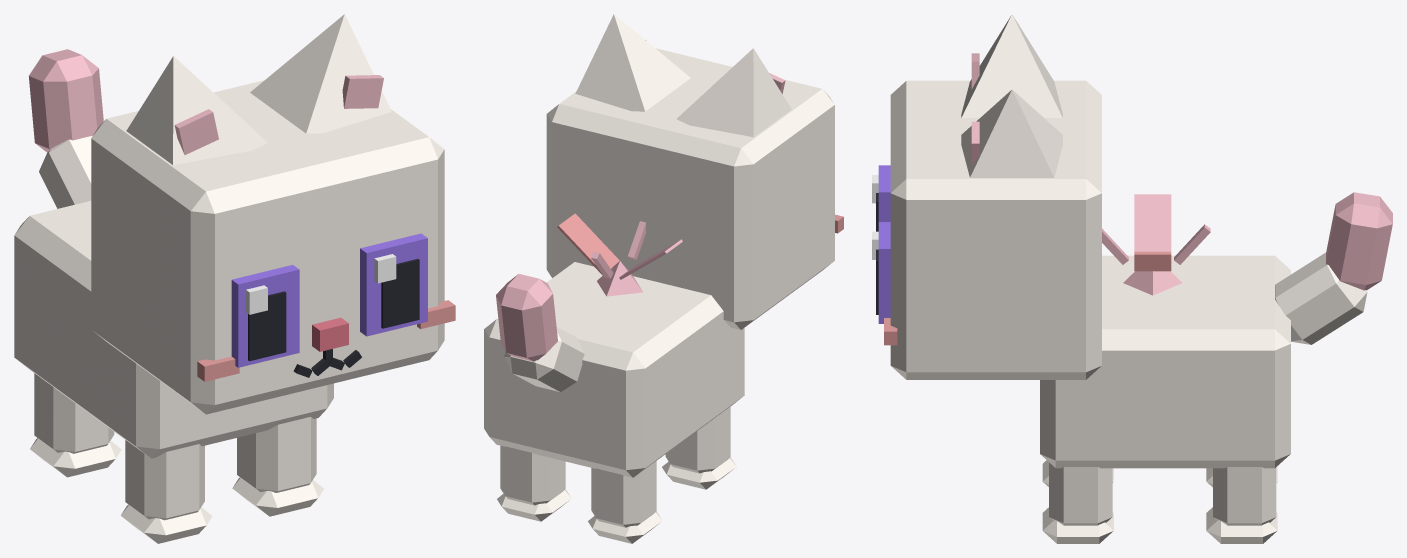
File: CatCafe_Cat_Origami.glb
3 renders of one model, left to right at view 1: azimuth 30°, elevation 25°; view 2: azimuth 150°, elevation 25°; view 3: azimuth 270°, elevation 25°, orthographic. The views are drawn at different scales.
Parts seen in each view (by area): view 1: CatCafe_Cat_Origami_Head, CatCafe_Cat_Origami_Body, CatCafe_Cat_Origami_EarL, CatCafe_Cat_Origami_Tail, CatCafe_Cat_Origami_EarR, CatCafe_Cat_Origami_LegF2, CatCafe_Cat_Origami_LegF1, CatCafe_Cat_Origami_Eye2, CatCafe_Cat_Origami_Eye1, CatCafe_Cat_Origami_LegB2; view 2: CatCafe_Cat_Origami_Head, CatCafe_Cat_Origami_Body, CatCafe_Cat_Origami_Tail, CatCafe_Cat_Origami_EarL, CatCafe_Cat_Origami_EarR, CatCafe_Cat_Origami_LegB2, CatCafe_Cat_Origami_LegB1, CatCafe_Cat_Origami_LegF2, CatCafe_Cat_Origami_Prop; view 3: CatCafe_Cat_Origami_Head, CatCafe_Cat_Origami_Body, CatCafe_Cat_Origami_Tail, CatCafe_Cat_Origami_EarL, CatCafe_Cat_Origami_EarR, CatCafe_Cat_Origami_LegF1, CatCafe_Cat_Origami_LegB1, CatCafe_Cat_Origami_Prop, CatCafe_Cat_Origami_Eye1, CatCafe_Cat_Origami_Eye2.
Part boxes in pixels (box(x1,y1,x2,y2)): CatCafe_Cat_Origami_Head: box(91, 80, 455, 414); CatCafe_Cat_Origami_Body: box(14, 201, 333, 458); CatCafe_Cat_Origami_EarL: box(250, 14, 391, 133); CatCafe_Cat_Origami_Tail: box(28, 49, 103, 208); CatCafe_Cat_Origami_EarR: box(126, 56, 267, 165); CatCafe_Cat_Origami_LegF2: box(121, 440, 212, 543); CatCafe_Cat_Origami_LegF1: box(232, 417, 323, 516); CatCafe_Cat_Origami_Eye2: box(231, 265, 299, 367); CatCafe_Cat_Origami_Eye1: box(360, 233, 427, 336); CatCafe_Cat_Origami_LegB2: box(30, 373, 121, 477); CatCafe_Cat_Origami_Head: box(546, 48, 843, 329); CatCafe_Cat_Origami_Body: box(484, 262, 744, 477); CatCafe_Cat_Origami_Tail: box(496, 274, 584, 392); CatCafe_Cat_Origami_EarL: box(575, 14, 690, 111); CatCafe_Cat_Origami_EarR: box(676, 48, 791, 137); CatCafe_Cat_Origami_LegB2: box(588, 461, 662, 543); CatCafe_Cat_Origami_LegB1: box(497, 445, 571, 521); CatCafe_Cat_Origami_LegF2: box(662, 406, 736, 489); CatCafe_Cat_Origami_Prop: box(557, 213, 682, 296); CatCafe_Cat_Origami_Head: box(884, 80, 1101, 379); CatCafe_Cat_Origami_Body: box(1040, 255, 1290, 468); CatCafe_Cat_Origami_Tail: box(1275, 192, 1392, 344); CatCafe_Cat_Origami_EarL: box(961, 89, 1062, 177); CatCafe_Cat_Origami_EarR: box(961, 14, 1062, 117); CatCafe_Cat_Origami_LegF1: box(1042, 462, 1113, 543); CatCafe_Cat_Origami_LegB1: box(1206, 467, 1277, 543); CatCafe_Cat_Origami_Prop: box(1102, 194, 1210, 295); CatCafe_Cat_Origami_Eye1: box(872, 222, 890, 323); CatCafe_Cat_Origami_Eye2: box(872, 165, 890, 231).
Bounding box in the file's own units: 1 × 1.92 × 1.97.
1 material, 1 textured.
